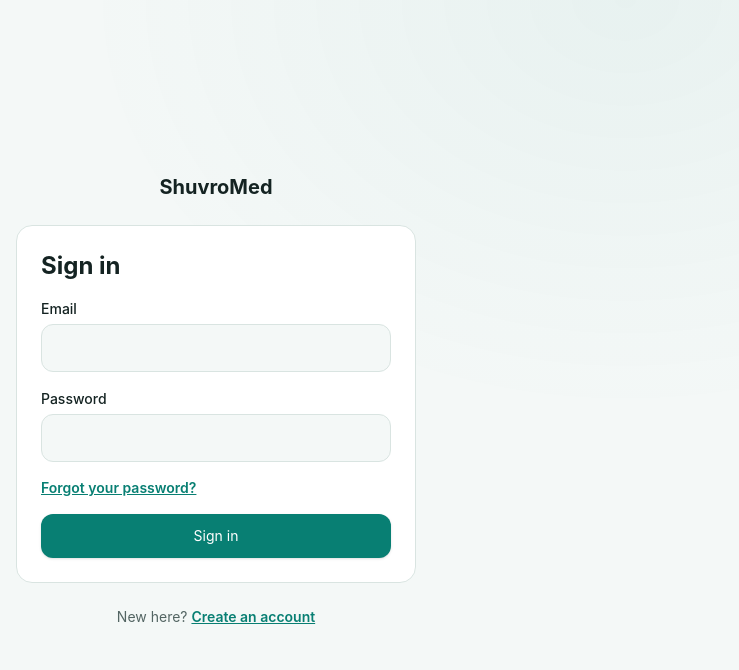
Test: sign in › explains an unconfirmed email
In the field labelled "Email": (216, 348) [41,324,391,372], type "new@test.local"
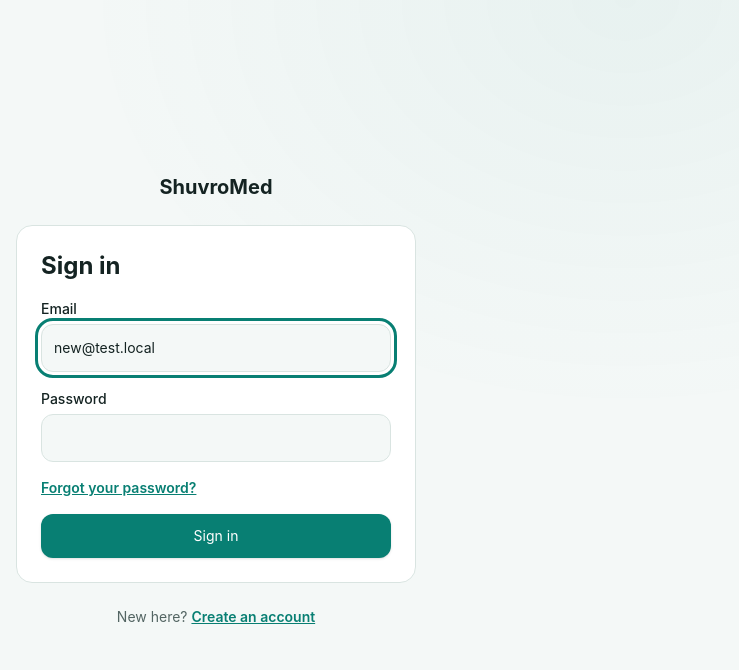
In the password field labelled "Password": (216, 438) [41,414,391,462], type "password123"
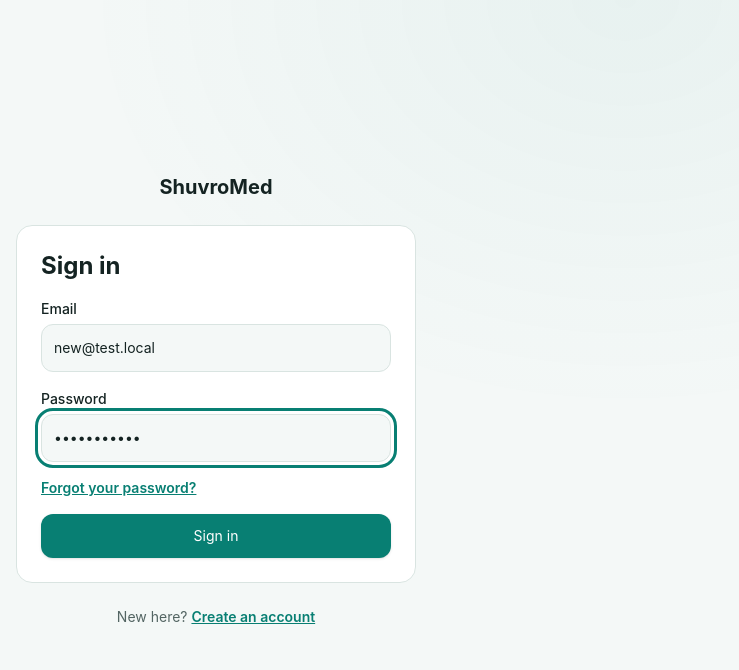
Click the button "Sign in": (216, 536) [41,514,391,558]
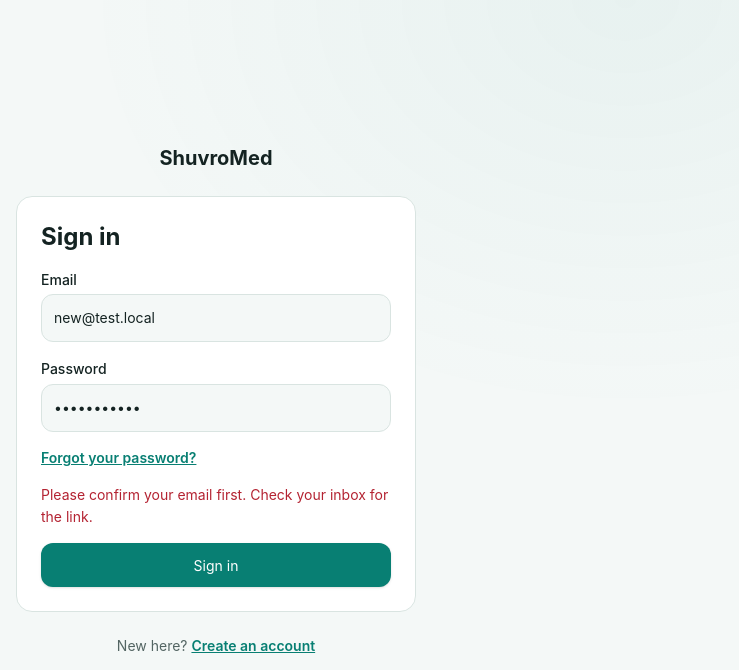
Expected: the message shows "confirm your email", [41,486,388,525]
